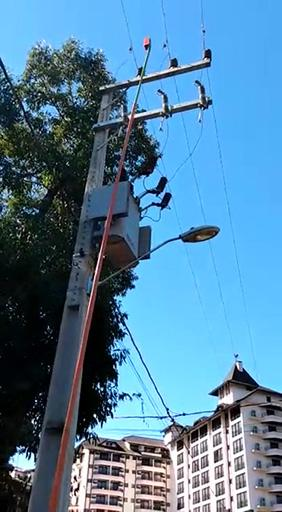Detector_Tensao_Contato: (141, 36, 152, 51)
Vara_Manobra: (48, 48, 152, 512)
